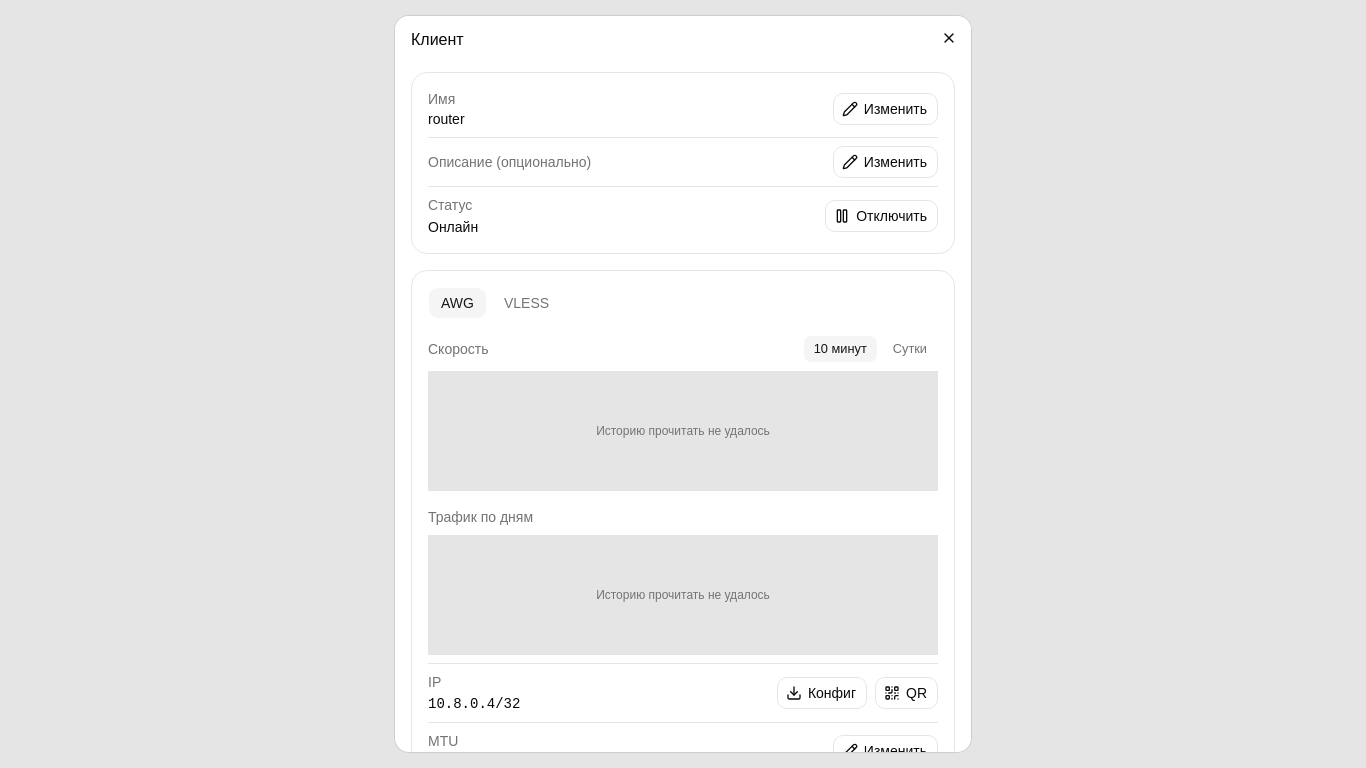
Test: MTU клиента › подсказка отвечает, что делать тем, кто уже подключён
Click the button with aria-label "Изменить MTU".
click(885, 751)  # box [833,735,938,767]
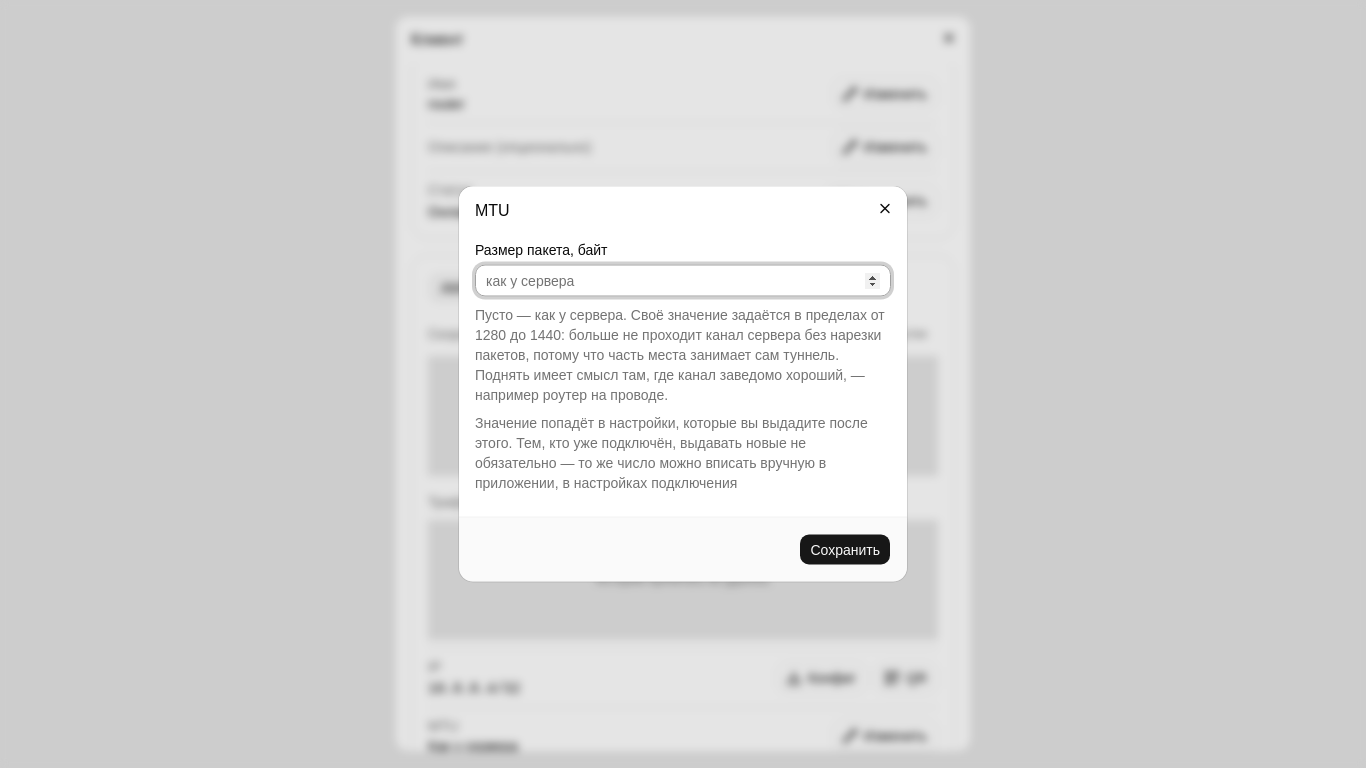
Now the text "от 1280 до 1440" is shown, box [475,304,891,404]
Now the text "вписать вручную в приложении" is shown, box [475,414,868,490]
